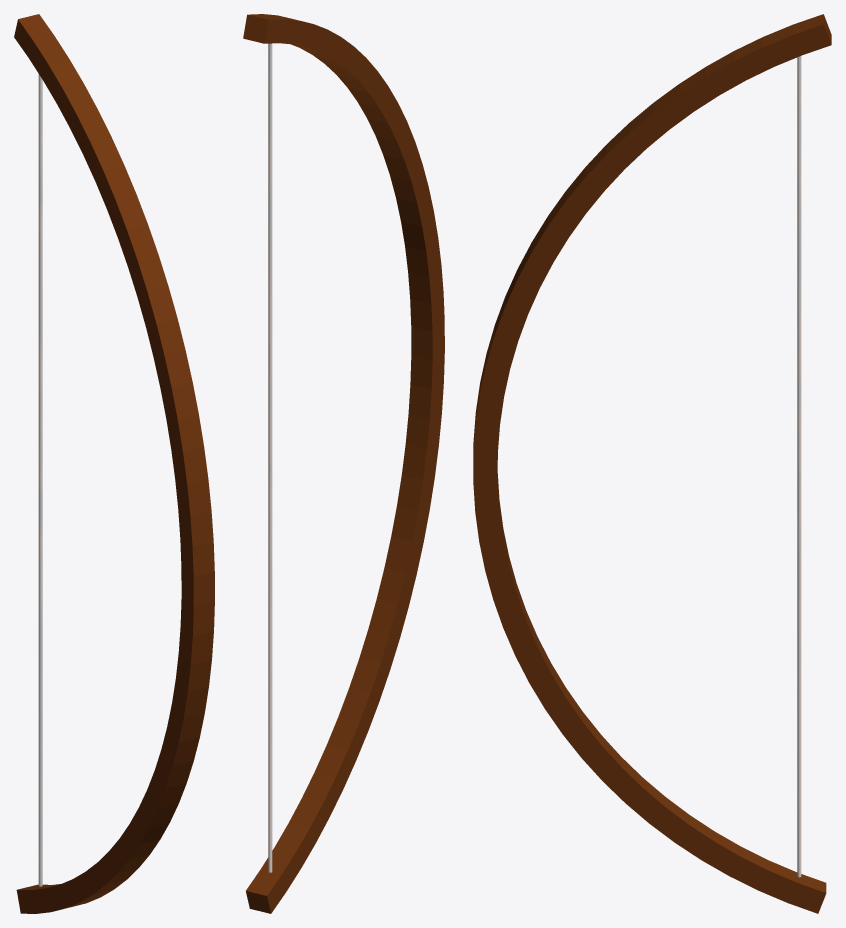
File: arc.fbx
The picture shows the model from 3 angles, left to right: view 1: azimuth 30°, elevation 25°; view 2: azimuth 150°, elevation 25°; view 3: azimuth 270°, elevation 25°; orthographic projection.
Visible parts, largest first — view 1: Cube, Cylindre; view 2: Cube, Cylindre; view 3: Cube, Cylindre.
Part boxes in pixels (left/top/right/bottom): Cube: left=14, top=14, right=214, bottom=913; Cylindre: left=38, top=74, right=42, bottom=886; Cube: left=243, top=14, right=444, bottom=913; Cylindre: left=268, top=43, right=272, bottom=871; Cube: left=473, top=14, right=831, bottom=913; Cylindre: left=797, top=56, right=801, bottom=877.
Bounding box in the file's own units: 9.35 × 376 × 137.
